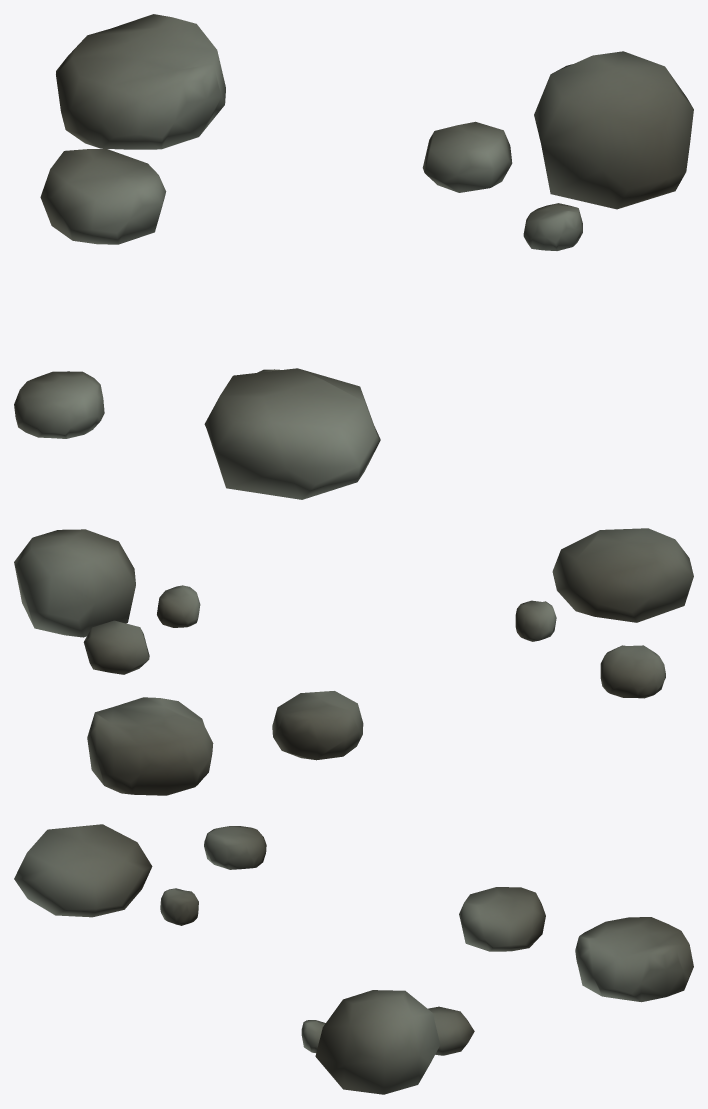
File: environment_stone_variation_c.fbx
The picture shows the model from 3 angles, top to bottom: view 1: azimuth 30°, elevation 25°; view 2: azimuth 150°, elevation 25°; view 3: azimuth 270°, elevation 25°; orthographic projection. The views are drawn at different scales.
Visible parts, largest first — view 1: bolder2; view 2: bolder2; view 3: bolder2.
Boxes of the visible parts, box(x1,y1,x2,y2) form: bolder2: box(14, 14, 693, 499); bolder2: box(14, 528, 693, 795); bolder2: box(14, 824, 693, 1094).
Bounding box in the file's own units: 696 × 105 × 764.
